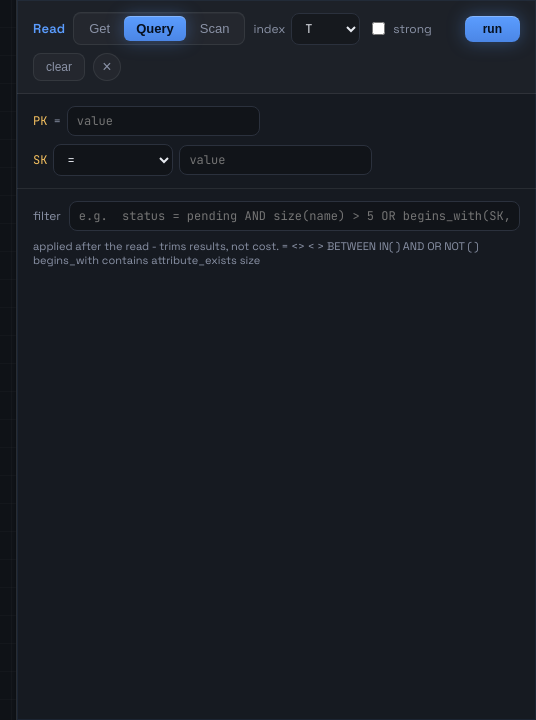
Test: QueryPanel › runs a scan over the whole table and reports + highlights the reads
Click the button "Scan": click(215, 28) 188,16 -> 241,41
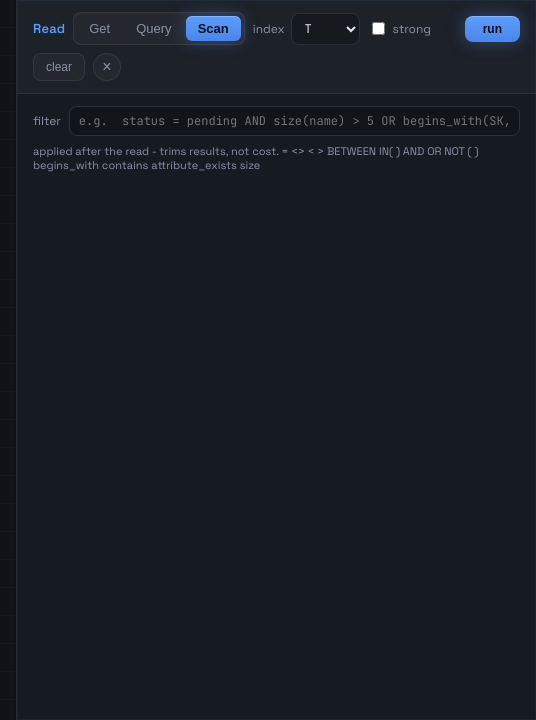
Click the button "run": click(492, 28) 465,16 -> 520,42
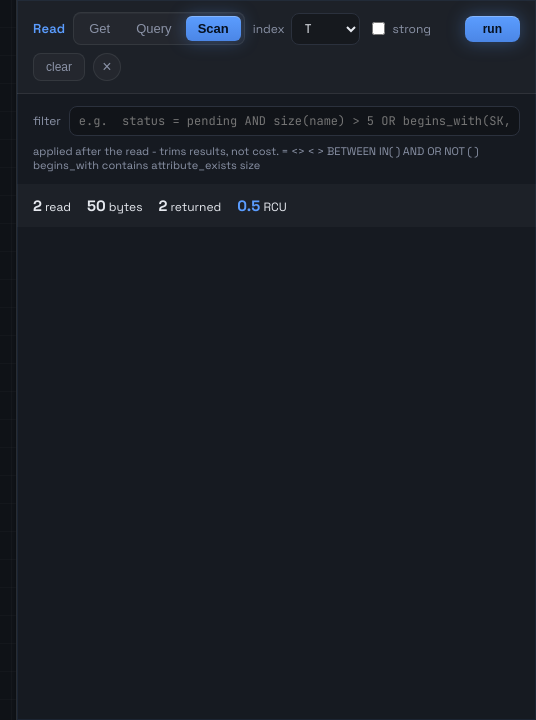
Check: the element showing "2 read 50 bytes 2 returned 0.5 RCU" is shown, box 17,184 -> 535,227
